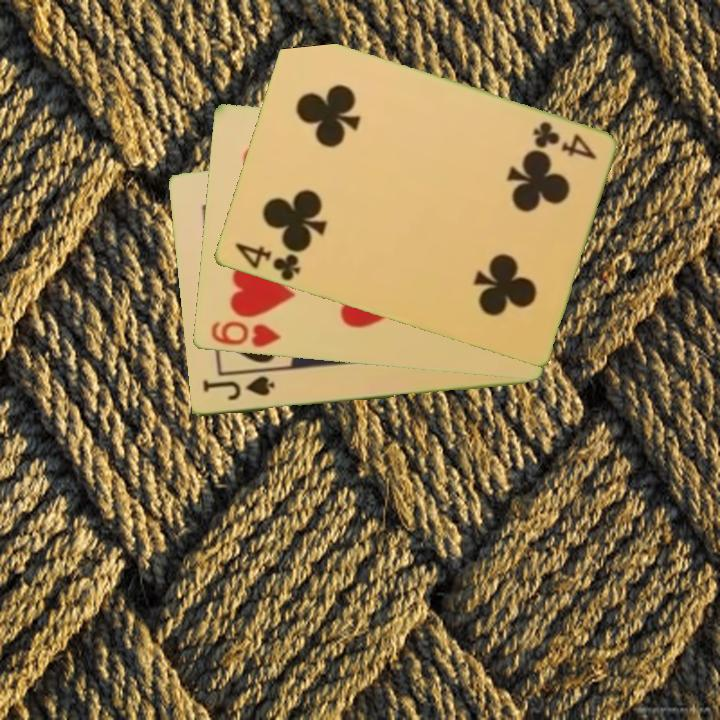4c: (231, 239, 303, 284), (528, 118, 599, 163)
6h: (207, 317, 283, 351)
Js: (199, 374, 277, 404)
